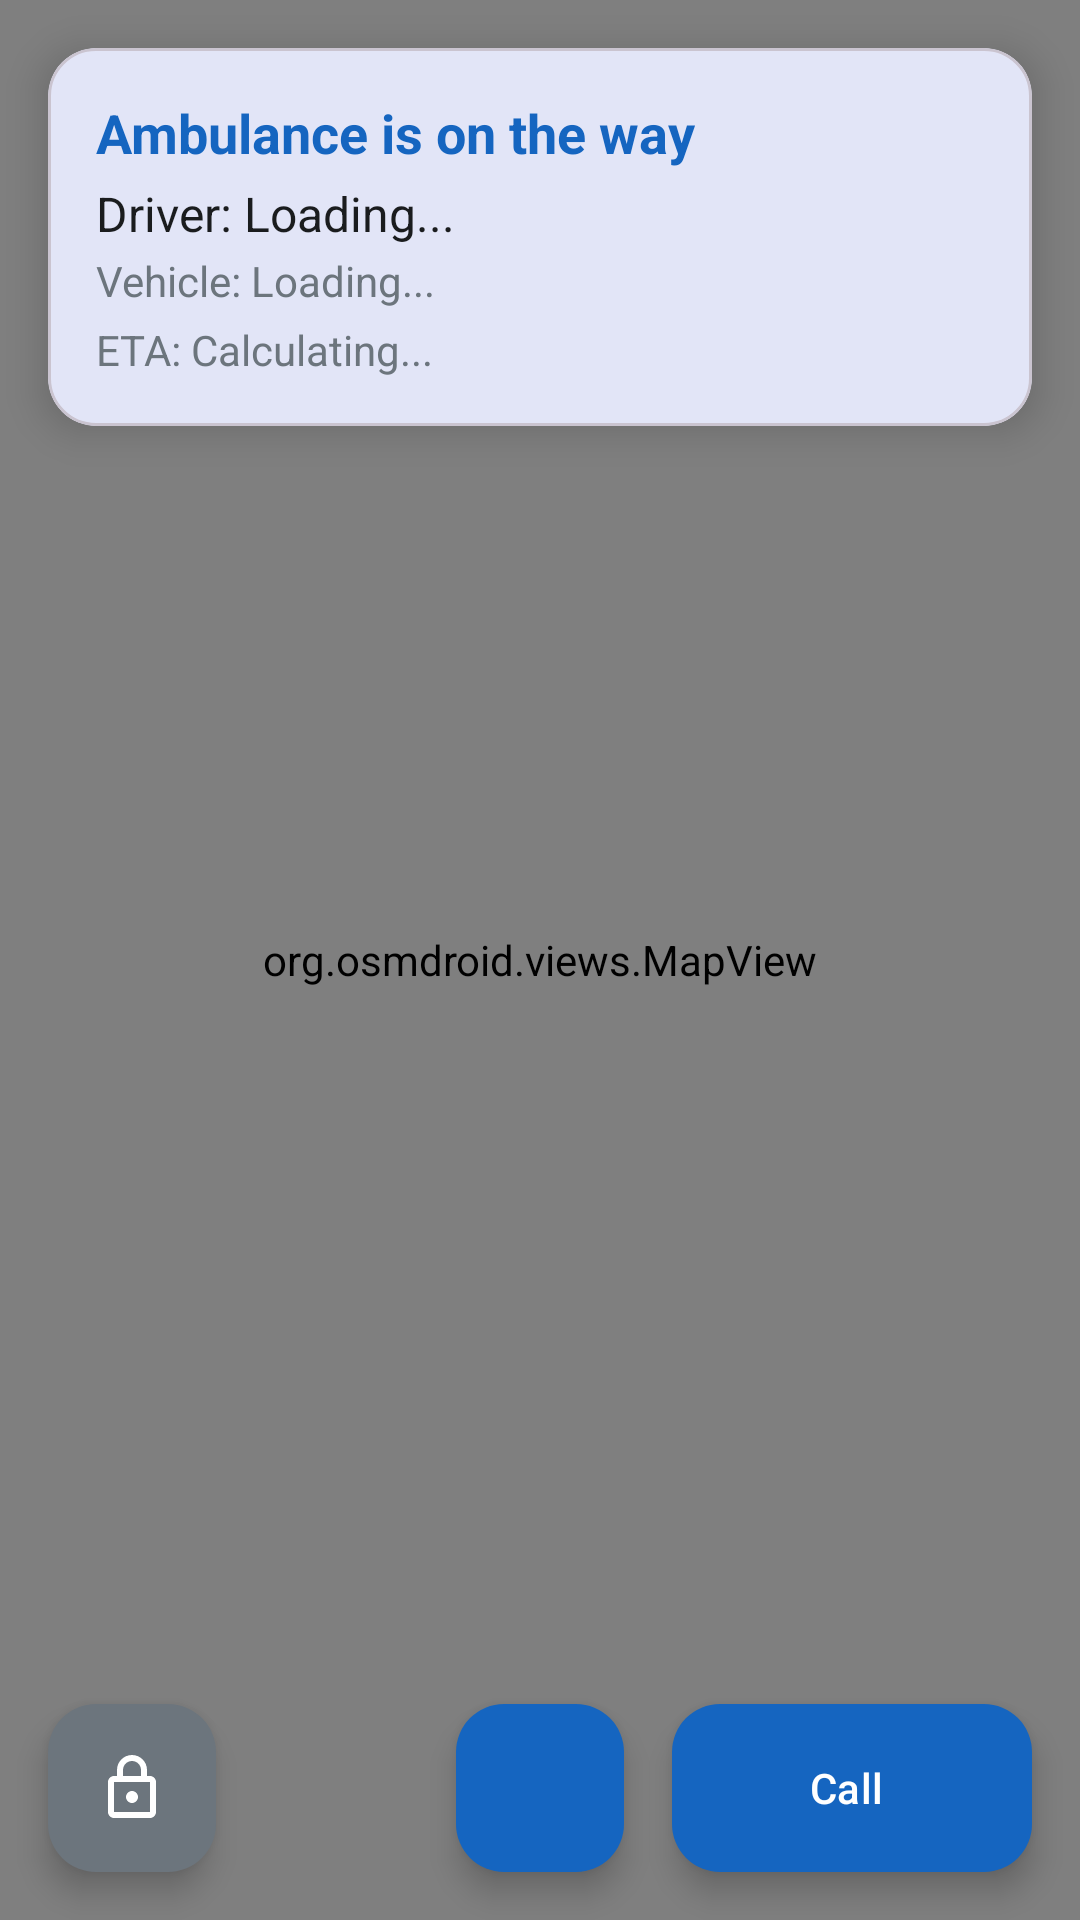

Locate icon controls on the screen. Image size 1080 × 1920, boxes as box(x1, y1, x2, y2).
lock: box(48, 1704, 216, 1872)
